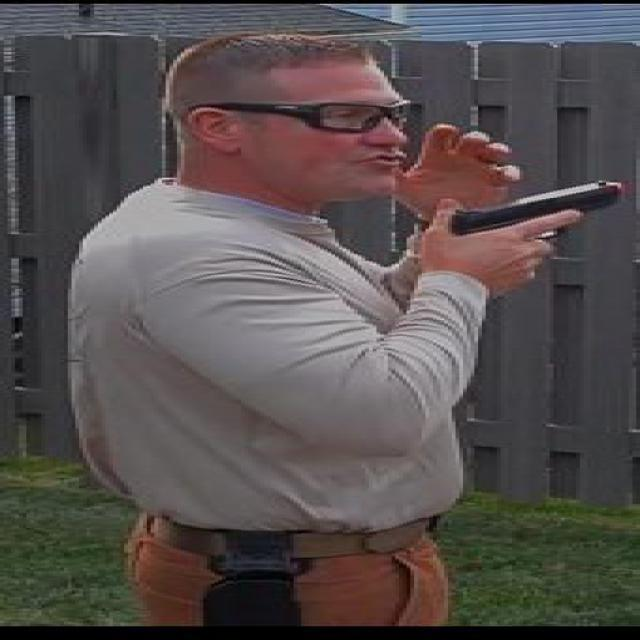gun: (429, 176, 621, 288)
